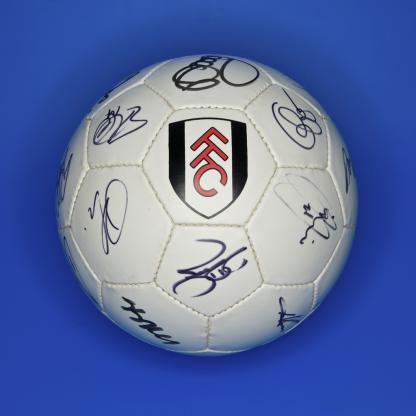Ball: (56, 50, 366, 358)
